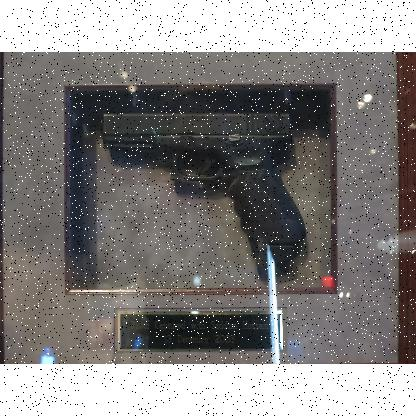gun: (96, 111, 306, 281)
